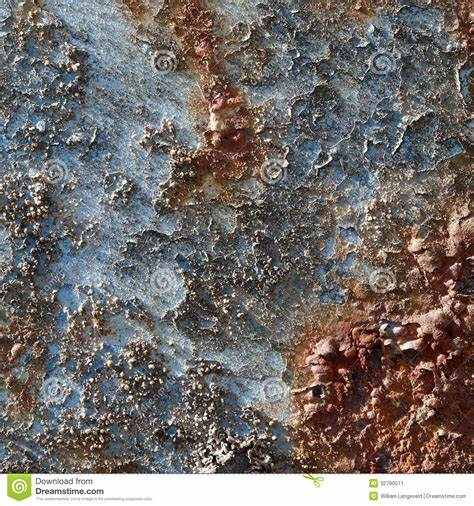rust: (296, 229, 474, 461), (177, 16, 248, 177)
